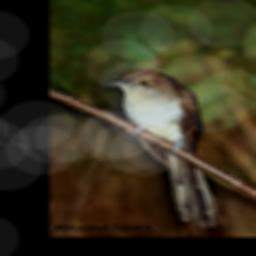Cuckoo: (106, 69, 219, 228)
